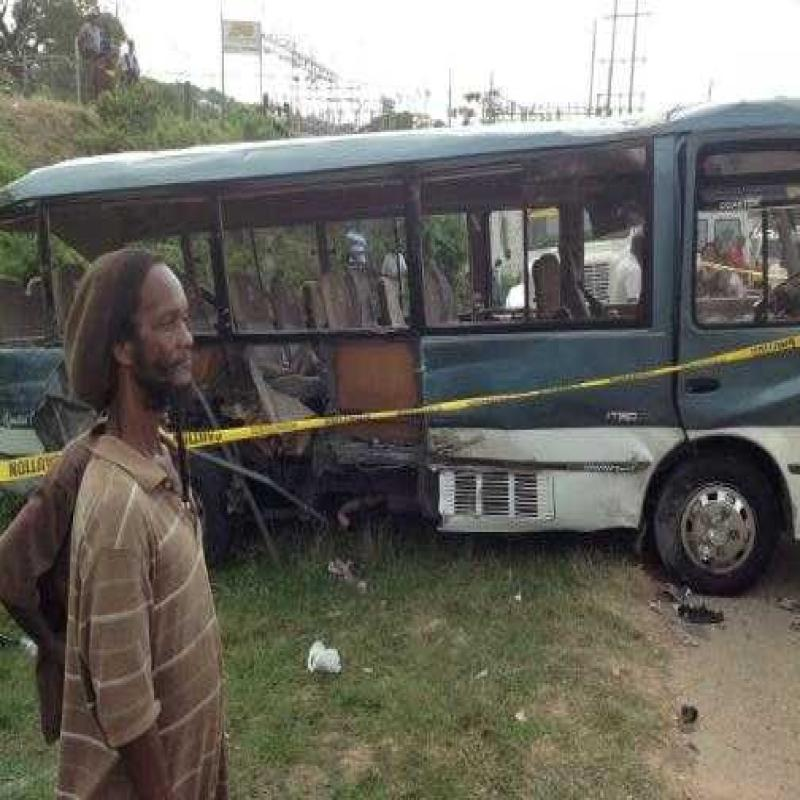bus: (9, 106, 800, 574)
